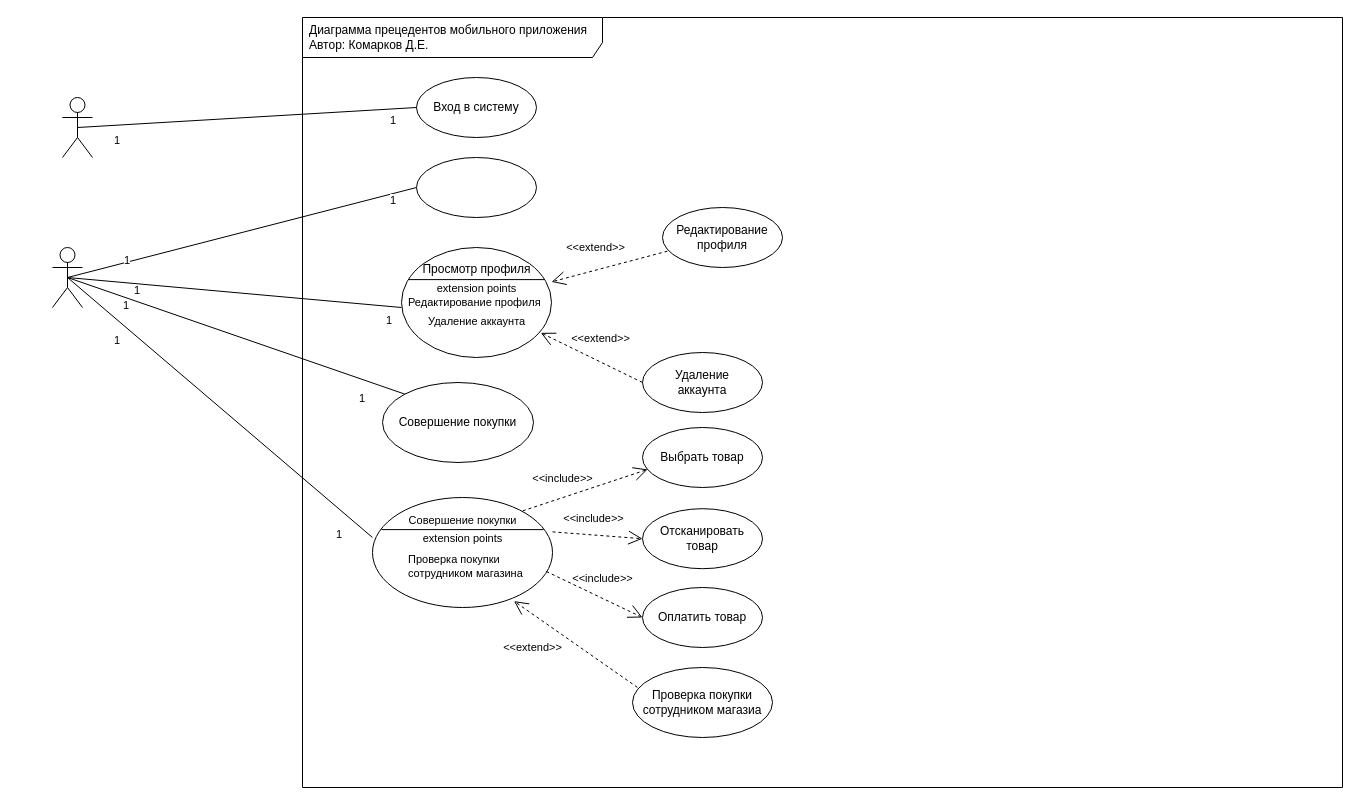
The diagram is 1360 pixels wide and 805 high, and some of its shapes have lost their labels. Each missing label, with the centre of its shape:
"Авторизированный пользователь" belongs at [67,277].
"Выход из системы" belongs at [476,187].
"Неавторизированный пользователь" belongs at [77,127].
